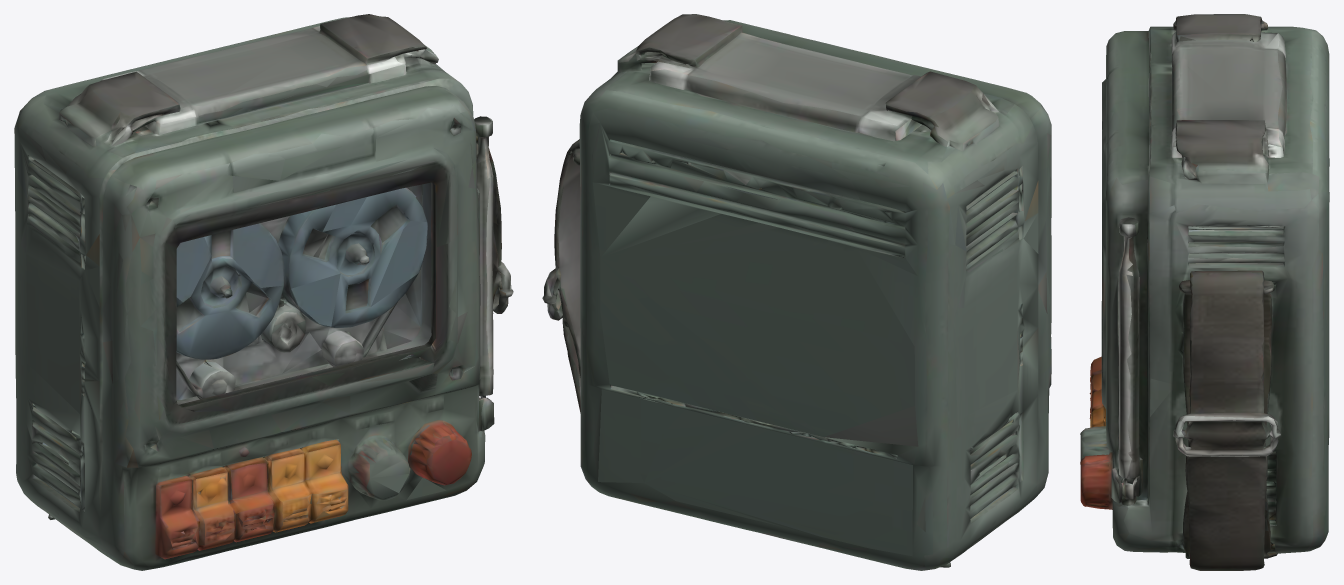
The model's file is sc-field-recorder.glb.
The picture shows the model from 3 angles, left to right: view 1: azimuth 30°, elevation 25°; view 2: azimuth 150°, elevation 25°; view 3: azimuth 270°, elevation 25°; orthographic projection. The views are drawn at different scales.
Visible parts, largest first — view 1: geometry_0; view 2: geometry_0; view 3: geometry_0.
Part boxes in pixels (<box>): geometry_0: <box>14,14,513,570</box>; geometry_0: <box>542,14,1051,570</box>; geometry_0: <box>1080,14,1329,570</box>.
Size of the model in its own units: 1 by 0.9816 by 0.541.
1 material, 1 textured.
